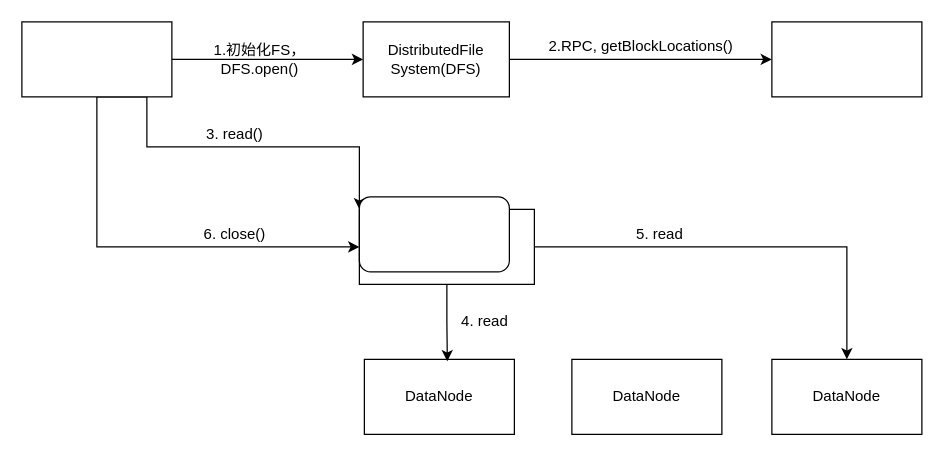
The diagram is 944 pixels wide and 456 high, and some of its shapes have lost their labels. The centre of each missing label's shape, as x and y in pixels:
"HDFS" belongs at (x=96, y=59).
"NameNode" belongs at (x=846, y=59).
